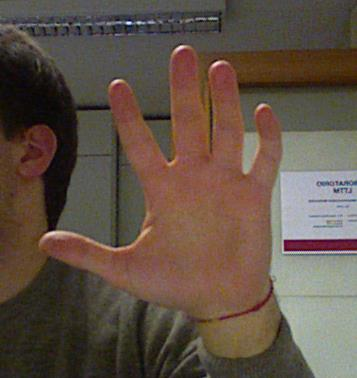down: (36, 42, 292, 311)
